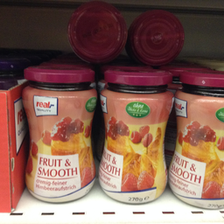jam: (22, 65, 97, 204), (99, 70, 175, 204), (168, 70, 224, 210)
